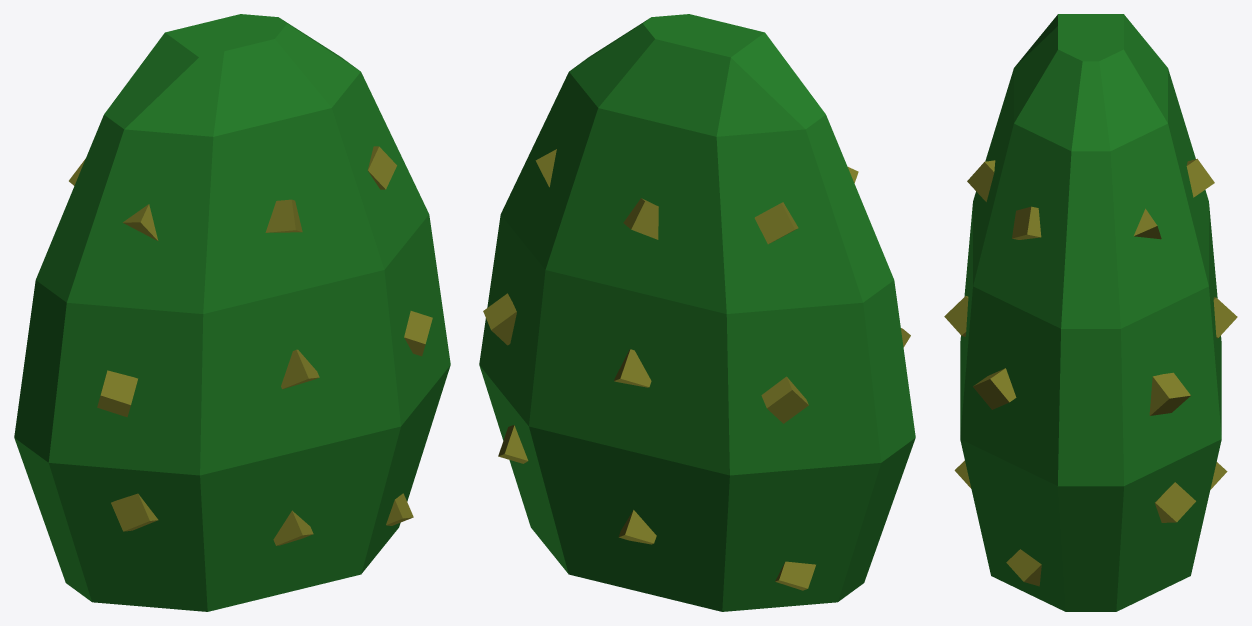
File: Cactus_4_Green.fbx
3 views of the same model, side by side, from view 1: azimuth 30°, elevation 25°; view 2: azimuth 150°, elevation 25°; view 3: azimuth 270°, elevation 25° (orthographic). The views are drawn at different scales.
Visible parts, largest first — view 1: Cactus_4_Green_Part_1, Cactus_4_Green_Part_2; view 2: Cactus_4_Green_Part_1, Cactus_4_Green_Part_2; view 3: Cactus_4_Green_Part_1, Cactus_4_Green_Part_2.
Part boxes in pixels (x1,y1,x2,y2): Cactus_4_Green_Part_1: (14,14,450,611); Cactus_4_Green_Part_2: (69,146,432,545); Cactus_4_Green_Part_1: (479,14,915,611); Cactus_4_Green_Part_2: (483,149,910,590); Cactus_4_Green_Part_1: (960,14,1221,611); Cactus_4_Green_Part_2: (944,158,1237,586).
Size of the model in its own units: 68.29 by 84.81 by 44.93.
